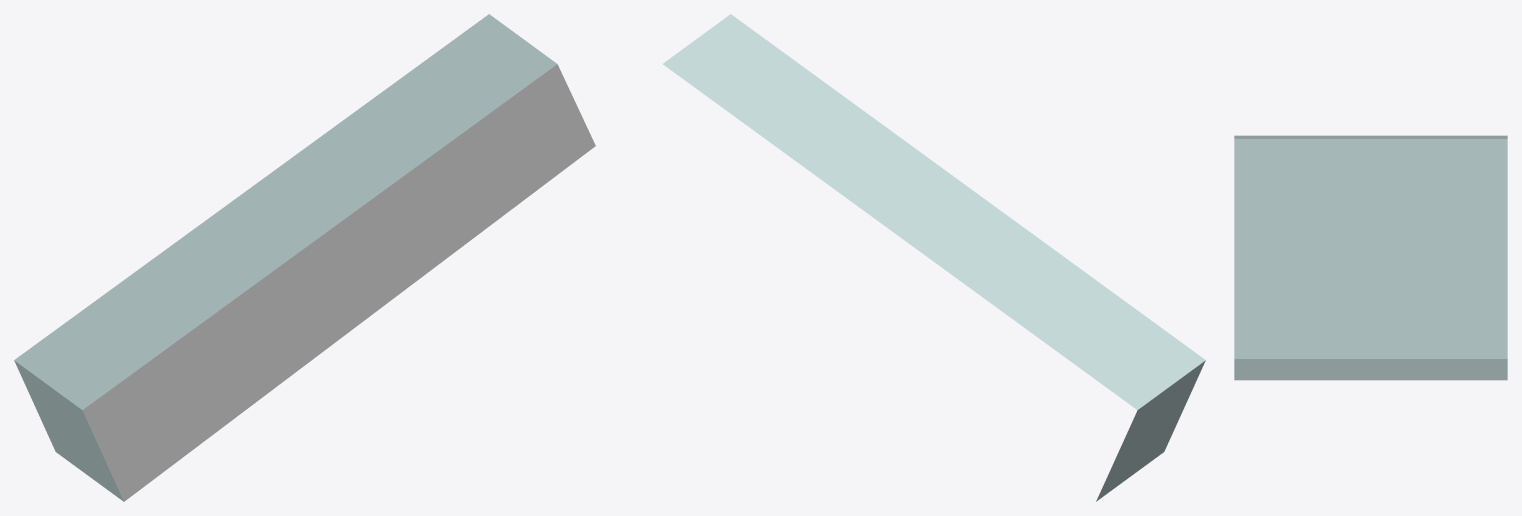
3 renders of one model, left to right at view 1: azimuth 30°, elevation 25°; view 2: azimuth 150°, elevation 25°; view 3: azimuth 270°, elevation 25°, orthographic. The views are drawn at different scales.
Visible parts, largest first — view 1: 0_1_1_2_2_1_3_1_3; view 2: 0_1_1_2_2_1_3_1_3; view 3: 0_1_1_2_2_1_3_1_3.
Boxes of the visible parts, x1,y1,x2,y2 form: 0_1_1_2_2_1_3_1_3: (14,14,595,501); 0_1_1_2_2_1_3_1_3: (663,14,1205,501); 0_1_1_2_2_1_3_1_3: (1234,135,1507,380).
Bounding box in the file's own units: 13.01 × 8.04 × 3.
